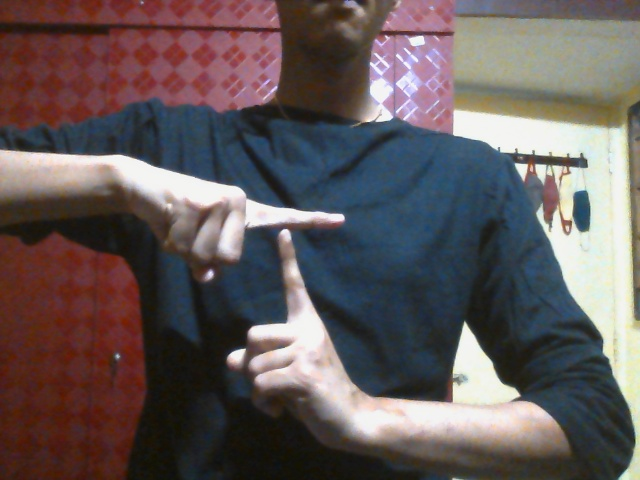T: (148, 166, 345, 435)
